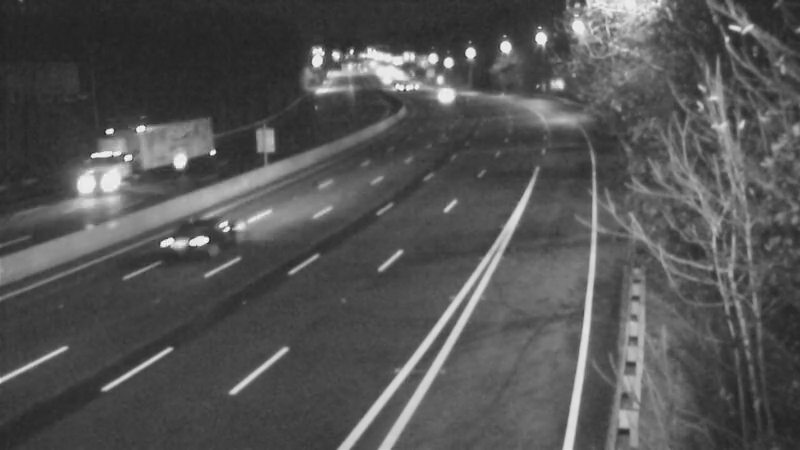vehicle: (147, 203, 227, 283), (79, 137, 159, 217), (383, 57, 433, 107), (422, 68, 472, 118)
